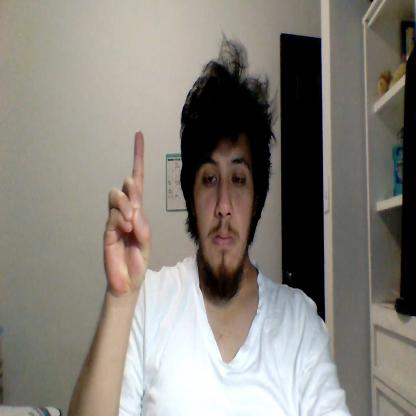D: (103, 129, 151, 294)
